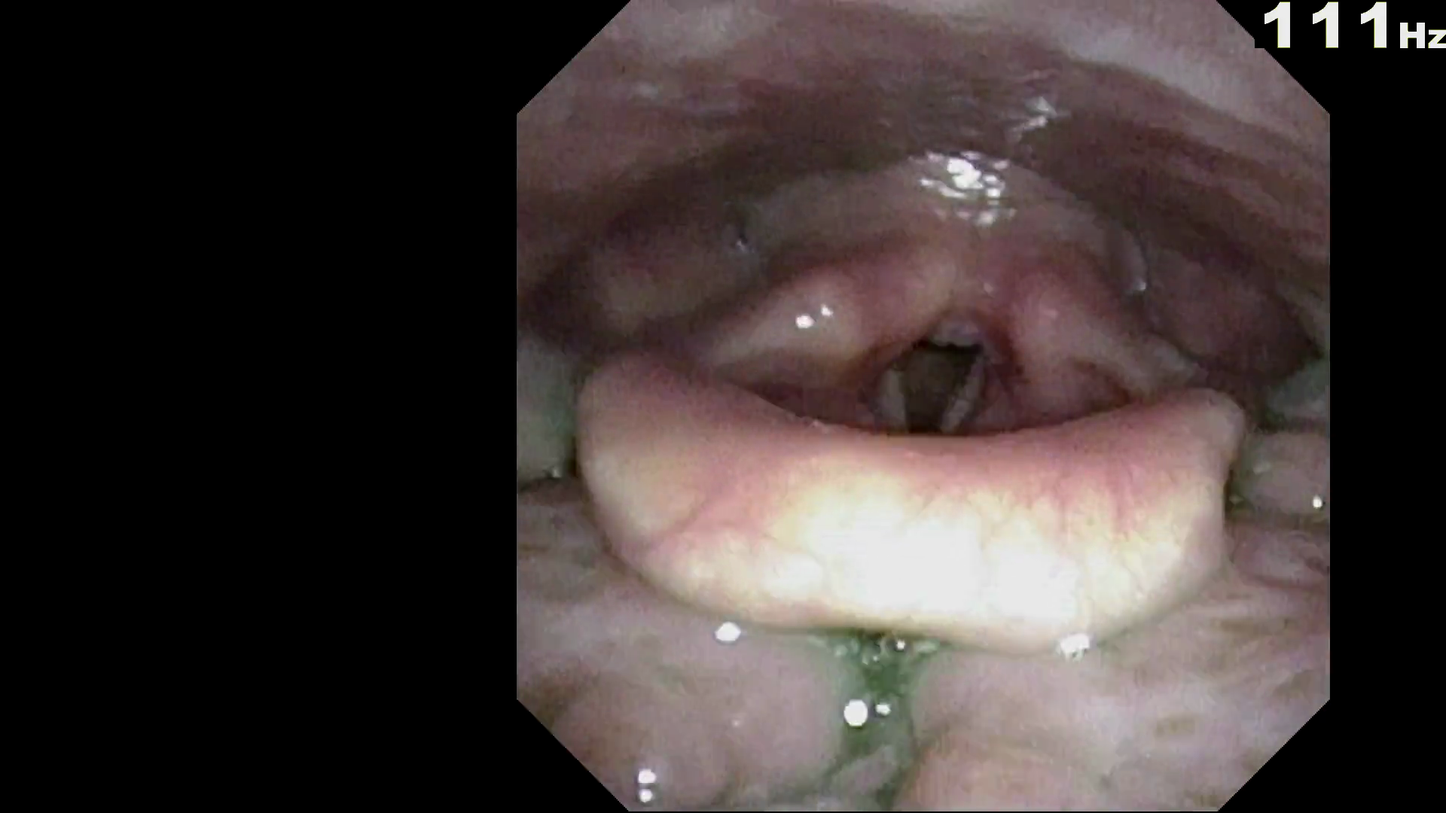epiglottis: (545, 271, 1290, 551)
